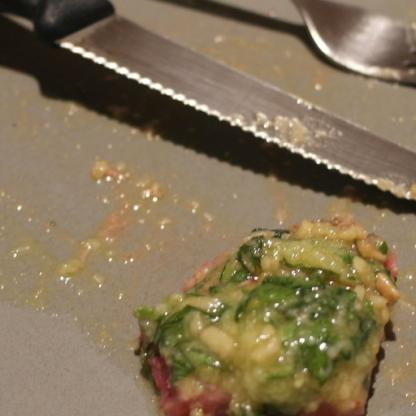knife: (0, 0, 416, 220)
